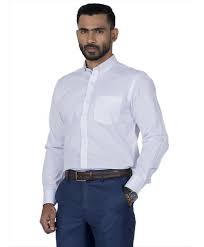F_belt: (59, 166, 134, 186)
F_dress pants: (53, 175, 138, 247)
F_shirt: (32, 55, 172, 205)
